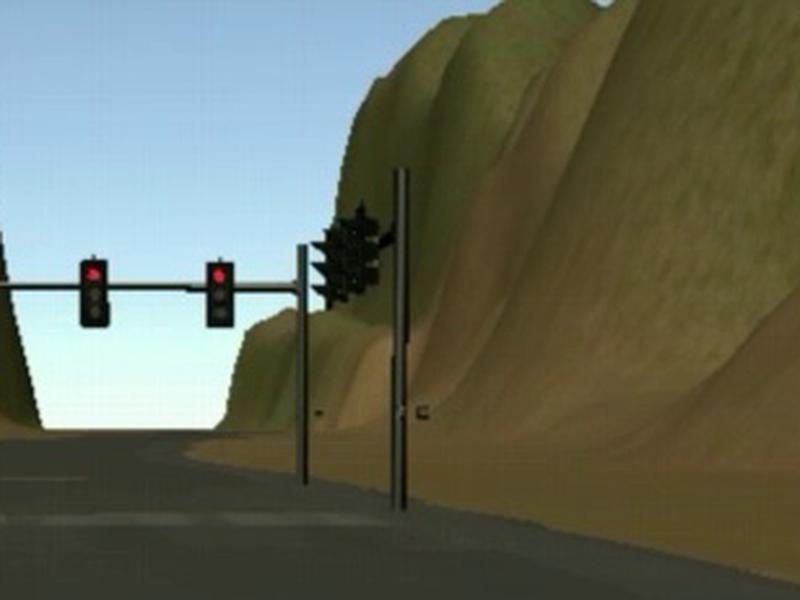Red: (79, 260, 110, 328), (206, 262, 234, 328)
